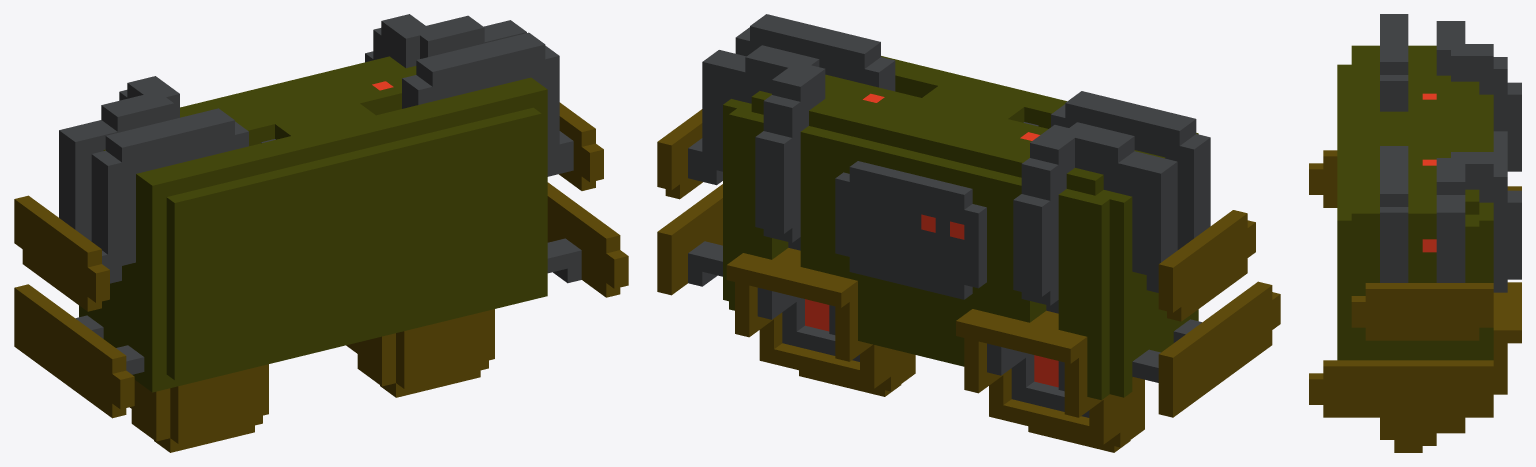
File: Bag-3.obj
3 views of the same model, side by side, from view 1: azimuth 30°, elevation 25°; view 2: azimuth 150°, elevation 25°; view 3: azimuth 270°, elevation 25° (orthographic). The views are drawn at different scales.
Size of the model in its own units: 3.6 by 2.2 by 1.5.
1 material, 1 textured.
